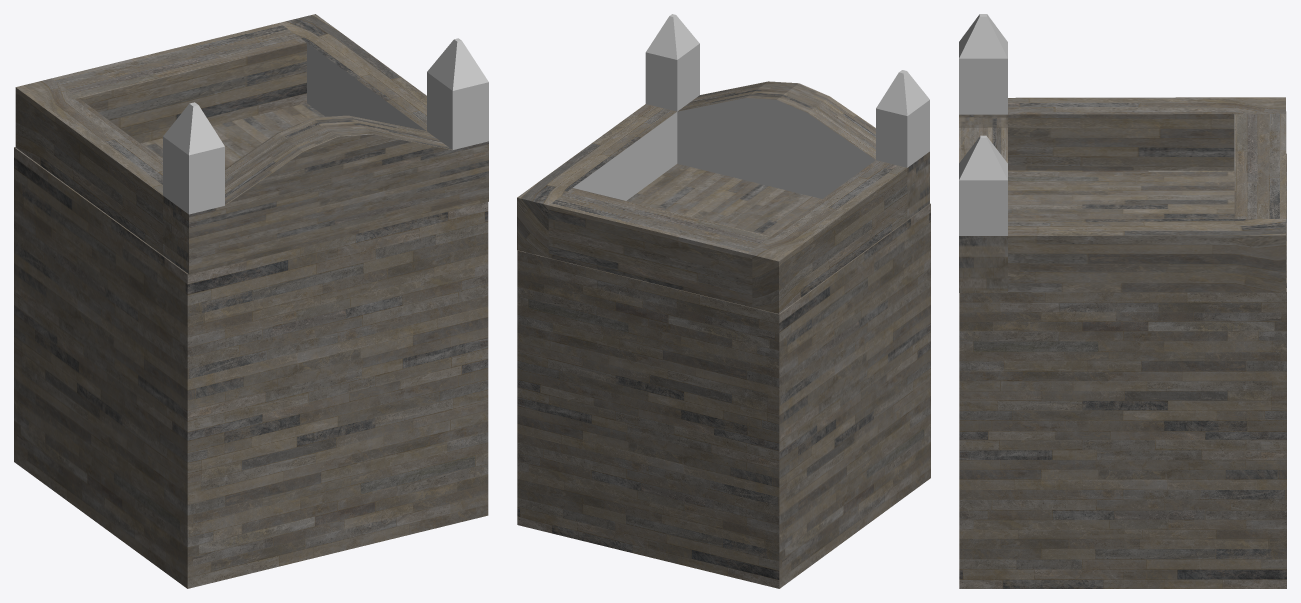
File: Single_top.fbx
The picture shows the model from 3 angles, left to right: view 1: azimuth 30°, elevation 25°; view 2: azimuth 150°, elevation 25°; view 3: azimuth 270°, elevation 25°; orthographic projection. The views are drawn at different scales.
Visible parts, largest first — view 1: Cube.023; view 2: Cube.023; view 3: Cube.023.
Part boxes in pixels (x1,y1,x2,y2): Cube.023: [14, 14, 488, 588]; Cube.023: [517, 14, 930, 588]; Cube.023: [959, 14, 1286, 588].
Size of the model in its own units: 200 by 299 by 200.
